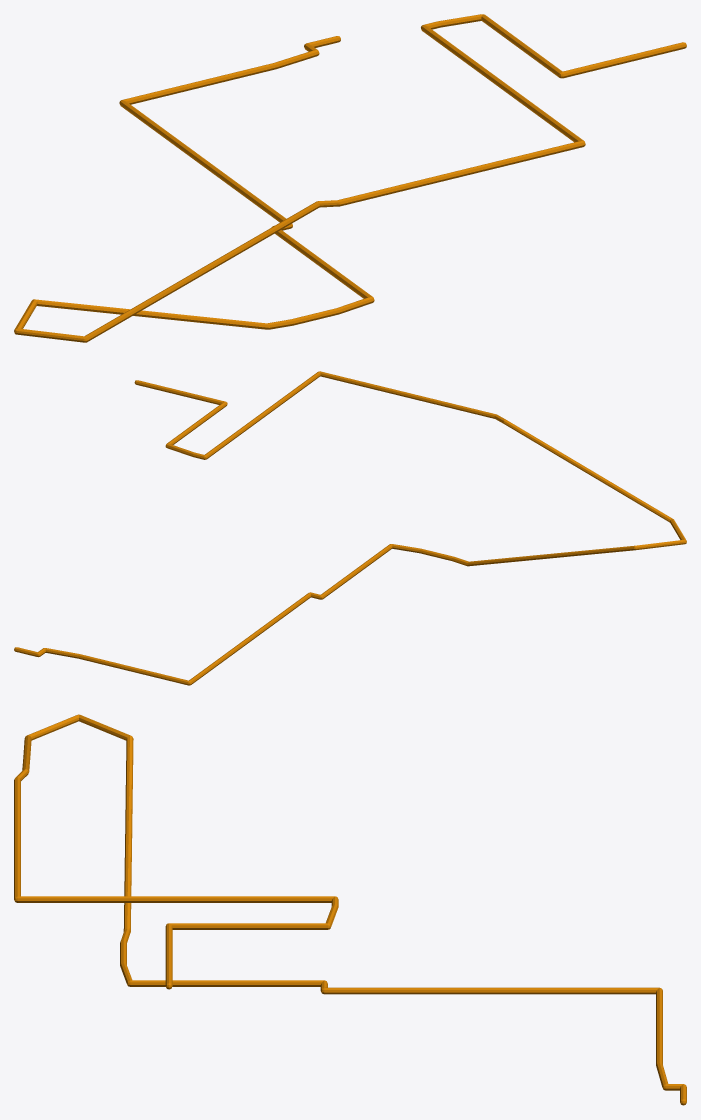
3 renders of one model, top to bottom at view 1: azimuth 30°, elevation 25°; view 2: azimuth 150°, elevation 25°; view 3: azimuth 270°, elevation 25°, orthographic. The views are drawn at different scales.
Size of the model in its own units: 2356 by 520 by 1907.
